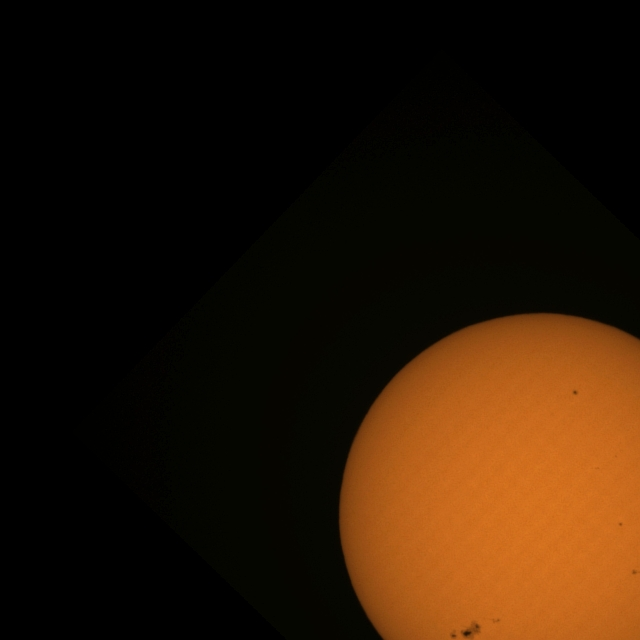sunspot: (449, 621, 482, 640), (490, 617, 500, 624), (632, 568, 640, 576), (572, 389, 579, 396), (618, 521, 624, 527)
